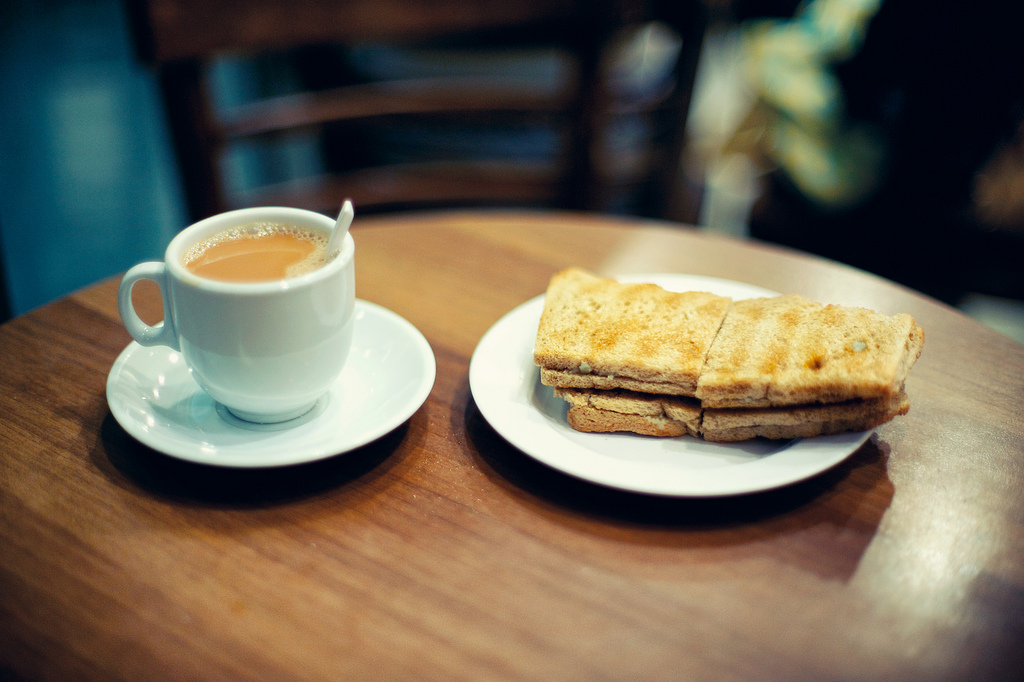slice of bread: (550, 271, 902, 439)
